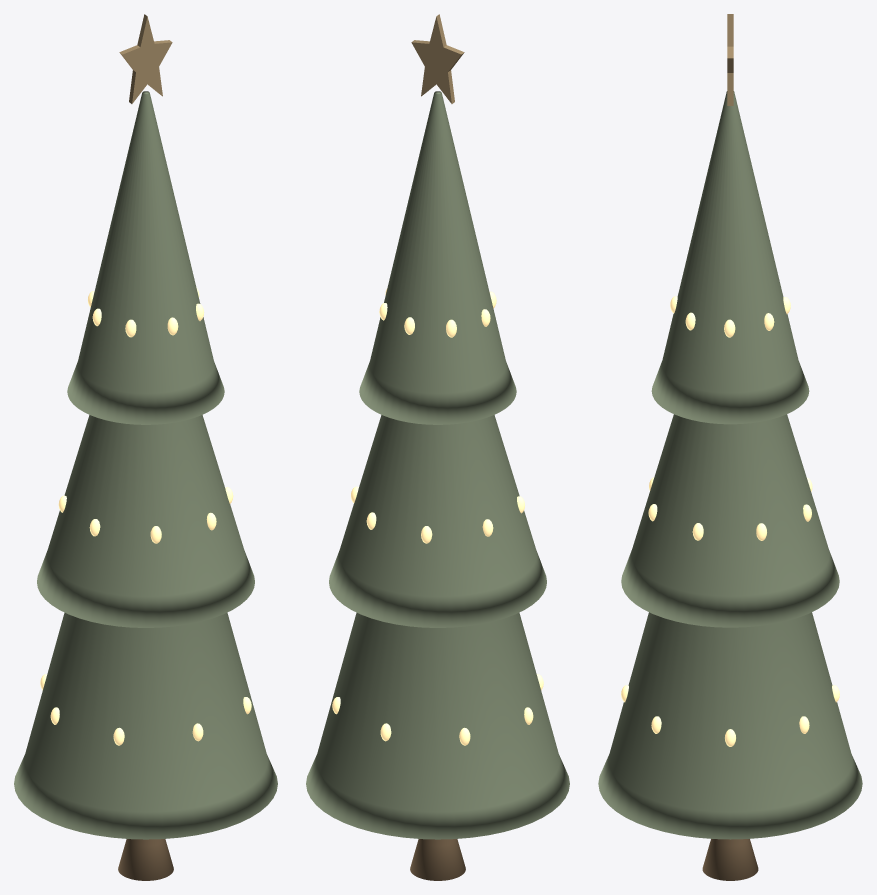
The model's file is christmastree.glb.
The picture shows the model from 3 angles, left to right: view 1: azimuth 30°, elevation 25°; view 2: azimuth 150°, elevation 25°; view 3: azimuth 270°, elevation 25°; orthographic projection.
Visible parts, largest first — view 1: holiday-pine-continuous-needles, fitted-tree-star, holiday-pine-trunk; view 2: holiday-pine-continuous-needles, fitted-tree-star, holiday-pine-trunk; view 3: holiday-pine-continuous-needles, holiday-pine-trunk, fitted-tree-star.
Boxes of the visible parts, x1,y1,x2,y2 form: holiday-pine-continuous-needles: (14,91,277,839); fitted-tree-star: (119,14,172,103); holiday-pine-trunk: (118,839,173,880); holiday-pine-continuous-needles: (306,91,569,839); fitted-tree-star: (411,14,464,103); holiday-pine-trunk: (410,839,465,880); holiday-pine-continuous-needles: (598,91,862,839); holiday-pine-trunk: (702,839,758,880); fitted-tree-star: (727,14,733,105).
Size of the model in its own units: 1.04 by 3.71 by 1.04.
